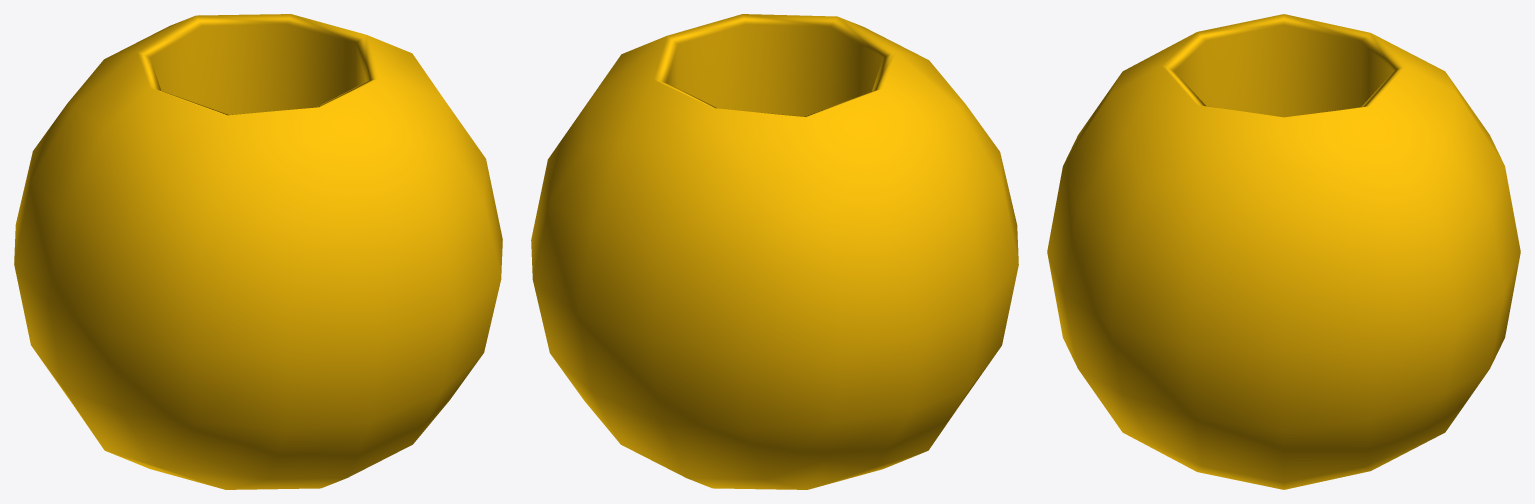
Rendered from Store_9_Toy_Ball_4.glb.
3 renders of one model, left to right at view 1: azimuth 30°, elevation 25°; view 2: azimuth 150°, elevation 25°; view 3: azimuth 270°, elevation 25°, orthographic. The views are drawn at different scales.
Visible parts, largest first — view 1: Store_9_Toy_Ball_4; view 2: Store_9_Toy_Ball_4; view 3: Store_9_Toy_Ball_4.
Boxes of the visible parts, x1=… form: Store_9_Toy_Ball_4: x1=14, y1=14, x2=502, y2=489; Store_9_Toy_Ball_4: x1=531, y1=14, x2=1018, y2=489; Store_9_Toy_Ball_4: x1=1047, y1=14, x2=1520, y2=489.
Bounding box in the file's own units: 0.2652 × 0.2301 × 0.2652.
Materials: 1 (1 with a texture image).
